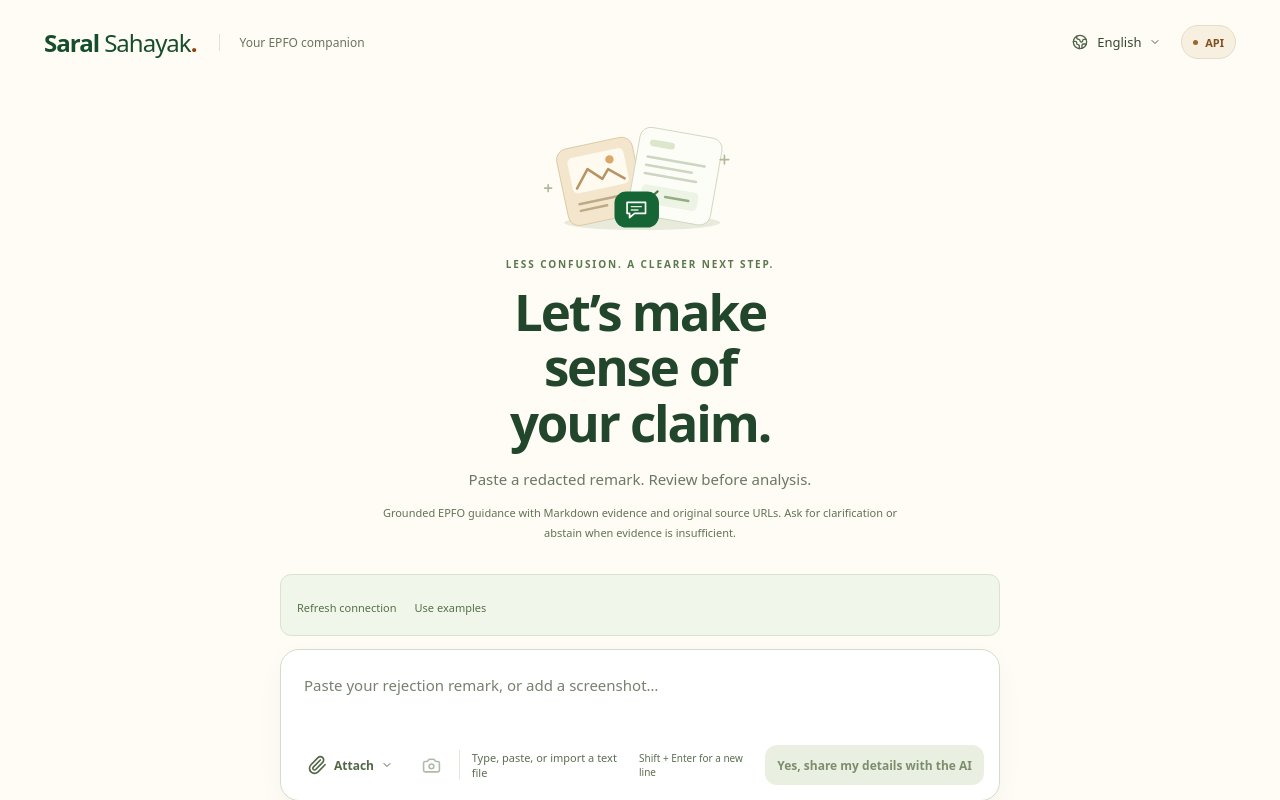
Test: API discovery and explicit consent › uses the real same-origin API default with no injected client or base URL
The image size is (1280, 800).
Expected: the button "API" is shown, x1=1181 y1=25 x2=1236 y2=59
Step 1. Type "  Fictional rejection wording only  " into the text box named "Your message" → (640, 692), box x1=281 y1=650 x2=999 y2=733
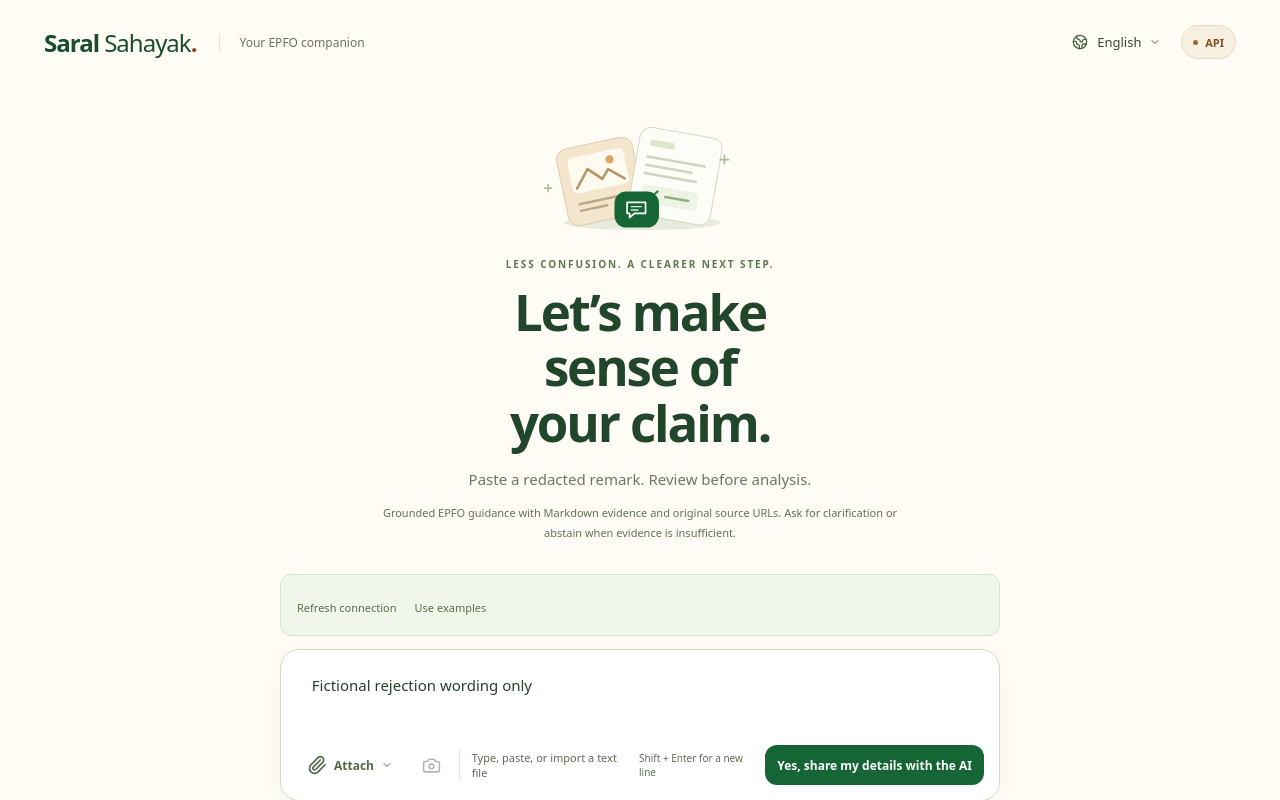
Now the button with aria-label "Analyze text" is enabled, box x1=765 y1=745 x2=984 y2=785
